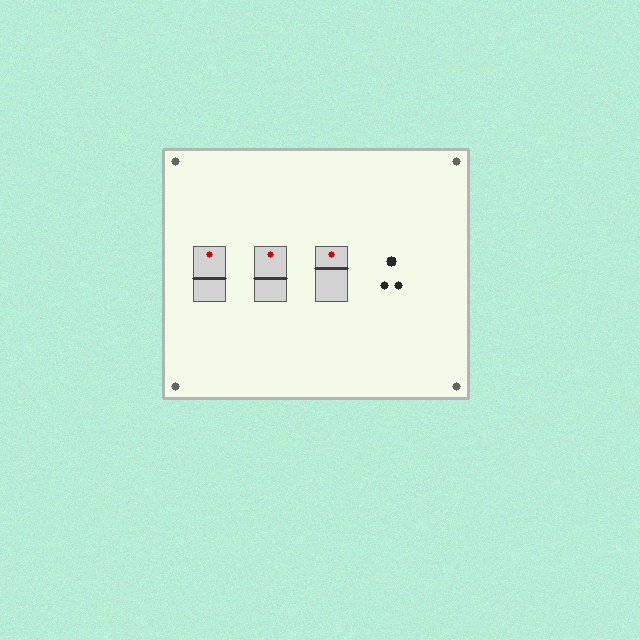switchboard: (163, 149, 468, 398)
